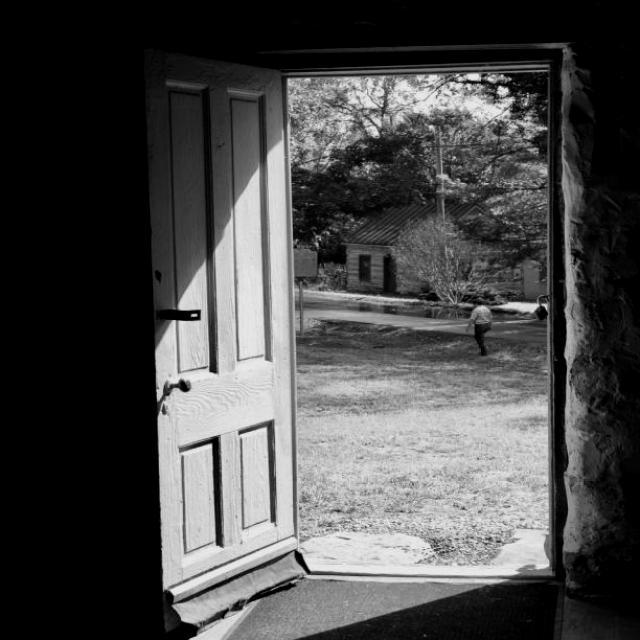Door: (147, 51, 300, 604)
